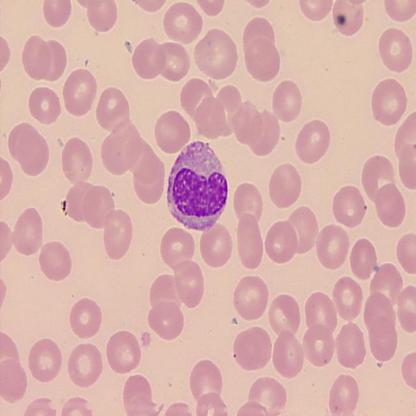Monocyte: (165, 137, 231, 233)
